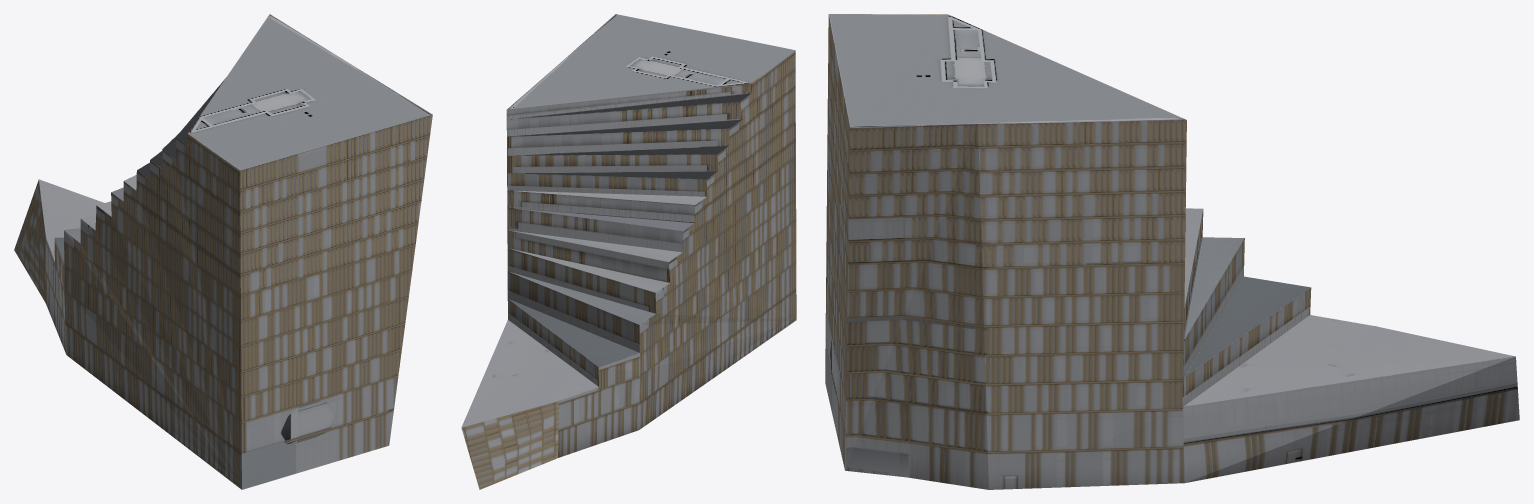
The model's file is part-a-MIX.glb.
3 views of the same model, side by side, from view 1: azimuth 30°, elevation 25°; view 2: azimuth 150°, elevation 25°; view 3: azimuth 270°, elevation 25° (orthographic). The views are drawn at different scales.
Visible parts, largest first — view 1: 5.02part1.001; view 2: 5.02part1.001; view 3: 5.02part1.001.
Boxes of the visible parts, box(x1,y1,x2,y2) form: 5.02part1.001: box(14, 14, 432, 489); 5.02part1.001: box(461, 14, 796, 489); 5.02part1.001: box(825, 14, 1519, 489).
Size of the model in its own units: 36.03 by 53.98 by 92.21.
Materials: 1 (1 with a texture image).
